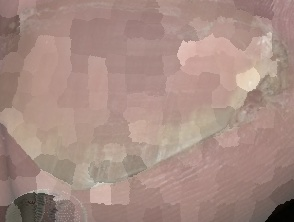Nail_psoriasis: (0, 0, 294, 206)
